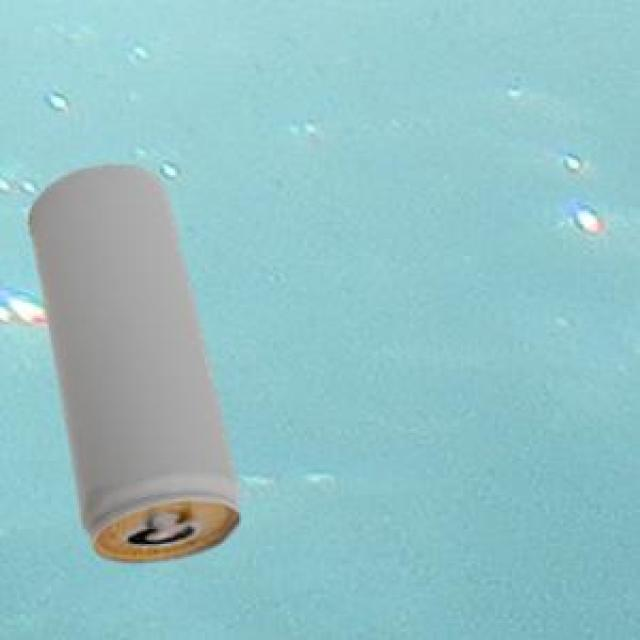logam: (27, 163, 236, 560)
